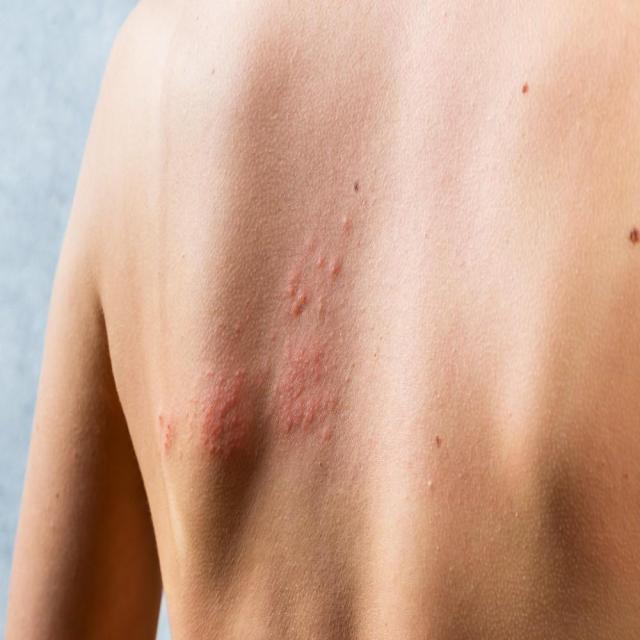hives: (148, 186, 392, 499)
